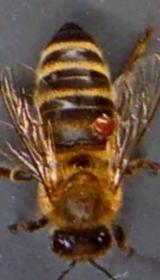varroa_mite: (91, 104, 119, 146)
